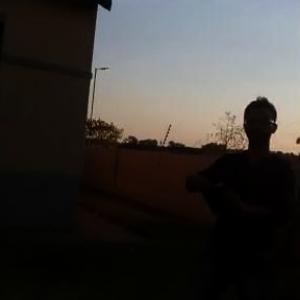follow: (181, 91, 299, 299)
